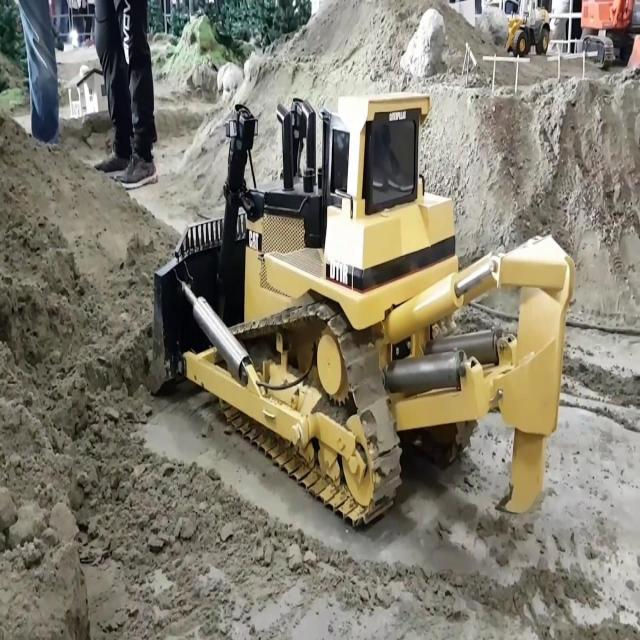Bulldozer: (124, 65, 586, 548)
